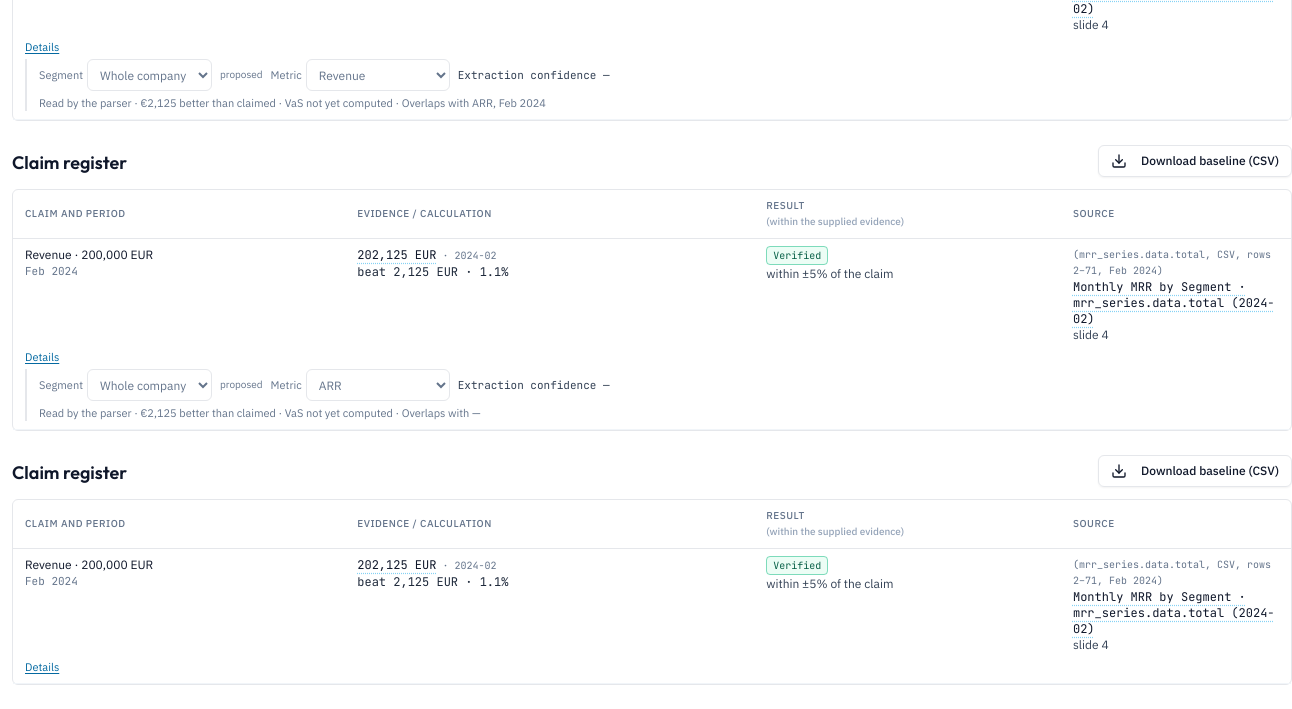
Scenario: choosing a segment saves it and the rows follow the server's answer
(page scrolled)
Click the button with test id "register-group-toggle": (42, 667) [25,659,59,675]
(page scrolled)
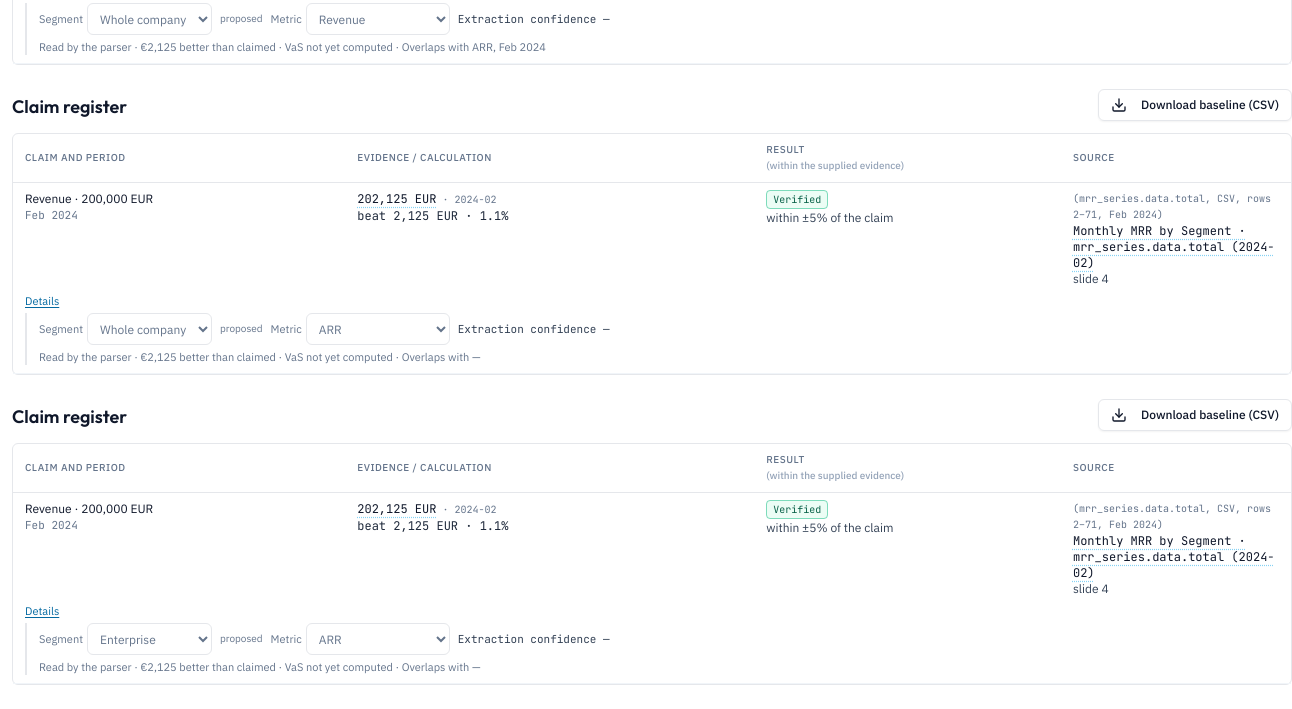
Select "Enterprise" in the 3rd dropdown with test id "register-segment": (150, 639) [87,623,212,655]
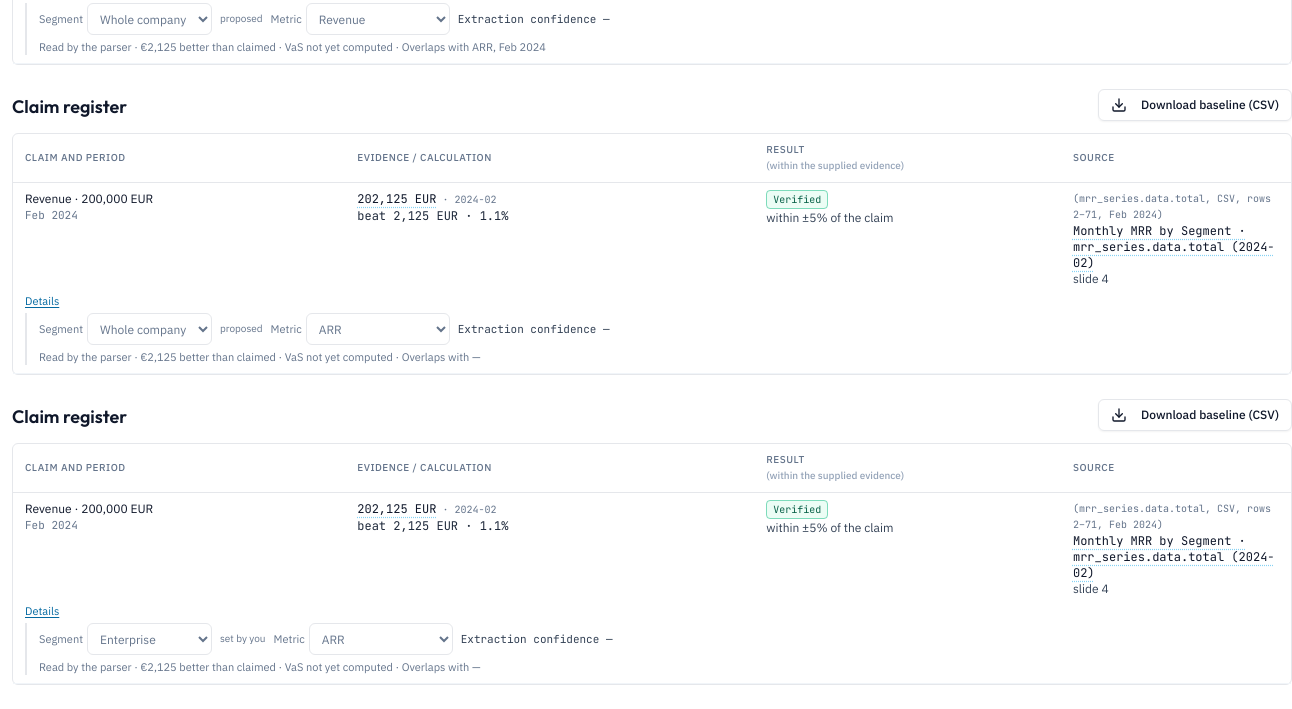
Expected: the text "set by you" is shown, [220,631,266,647]
